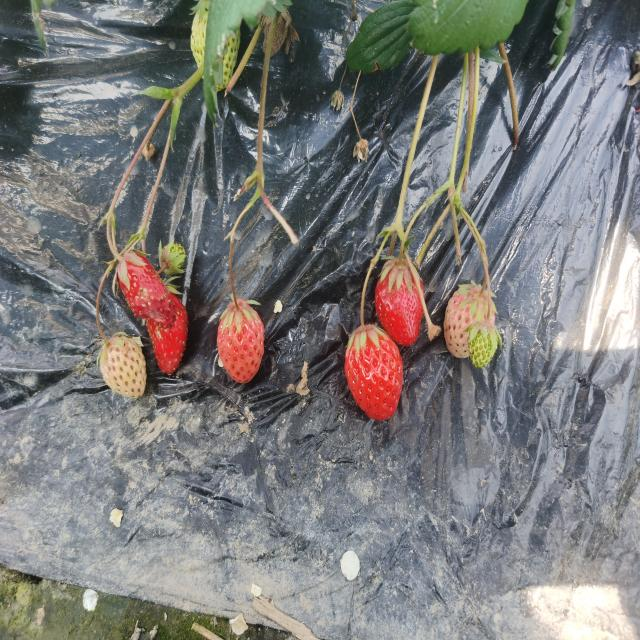stem: (107, 231, 124, 263), (398, 231, 409, 268), (230, 278, 241, 311), (360, 284, 367, 333)
strawberry: (345, 325, 404, 420), (117, 252, 177, 329), (375, 259, 424, 346), (217, 299, 264, 384), (147, 292, 188, 374)
